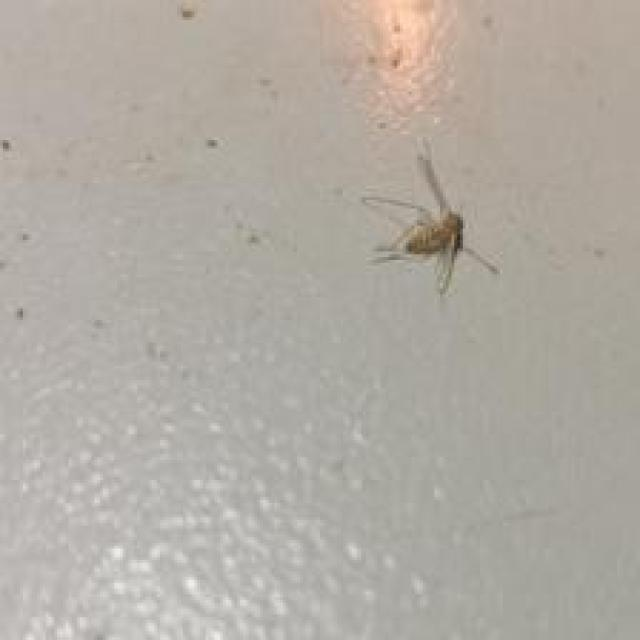Culex: (360, 134, 500, 297)
